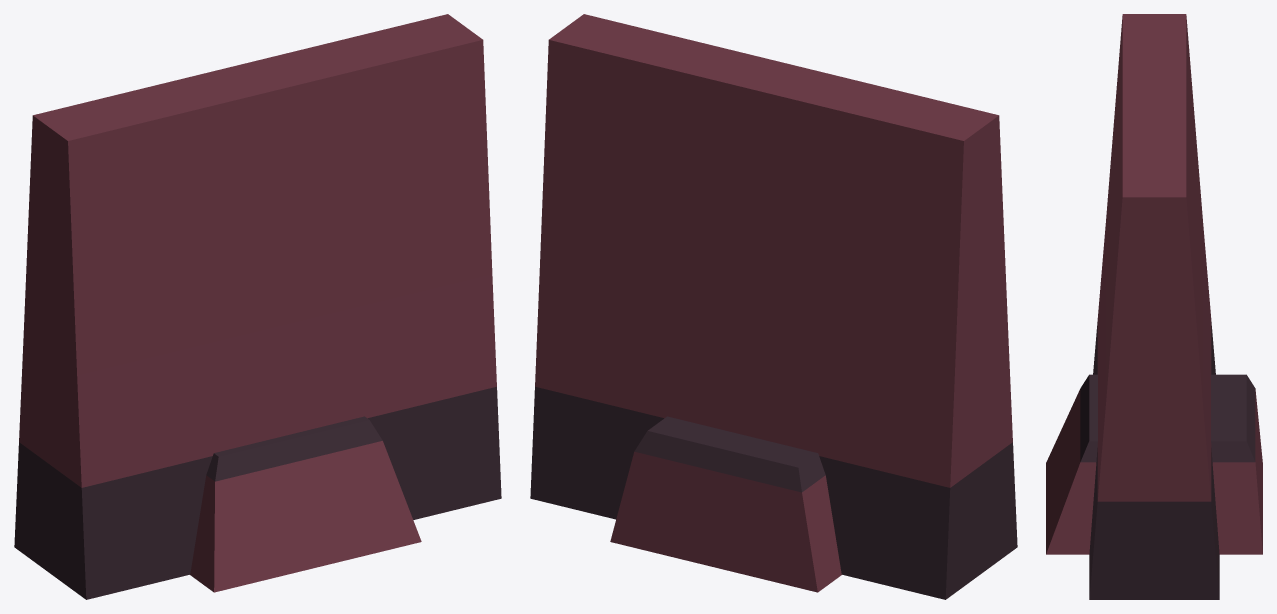
Rendered from RaisedPlatform.fbx.
3 views of the same model, side by side, from view 1: azimuth 30°, elevation 25°; view 2: azimuth 150°, elevation 25°; view 3: azimuth 270°, elevation 25° (orthographic). The views are drawn at different scales.
Parts seen in each view (by area): view 1: Wall, Platform; view 2: Wall, Platform; view 3: Wall, Platform.
Boxes of the visible parts, box(x1,y1,x2,y2) form: Wall: box(14, 14, 501, 599); Platform: box(190, 416, 421, 592); Wall: box(530, 14, 1017, 599); Platform: box(610, 416, 841, 592); Wall: box(1089, 14, 1219, 599); Platform: box(1046, 374, 1262, 554).
Size of the model in its own units: 400 by 410 by 200.
